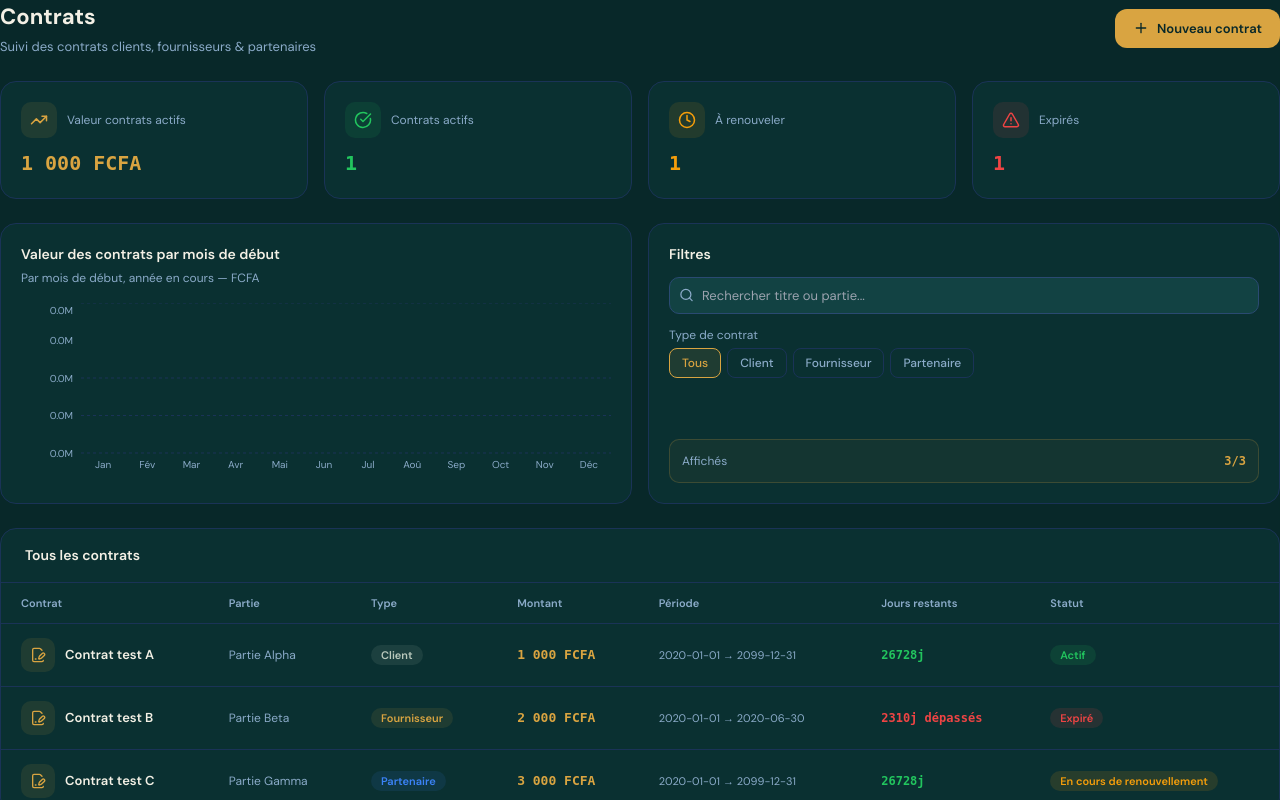
Test case: ContratsPage › avec des contrats saisis › filtre par type
Check: the text "Contrat test A" is shown, box top-left (65, 645), bottom-right (154, 665)
Click the button "Fournisseur".
click(838, 363)  # box top-left (792, 348), bottom-right (884, 378)
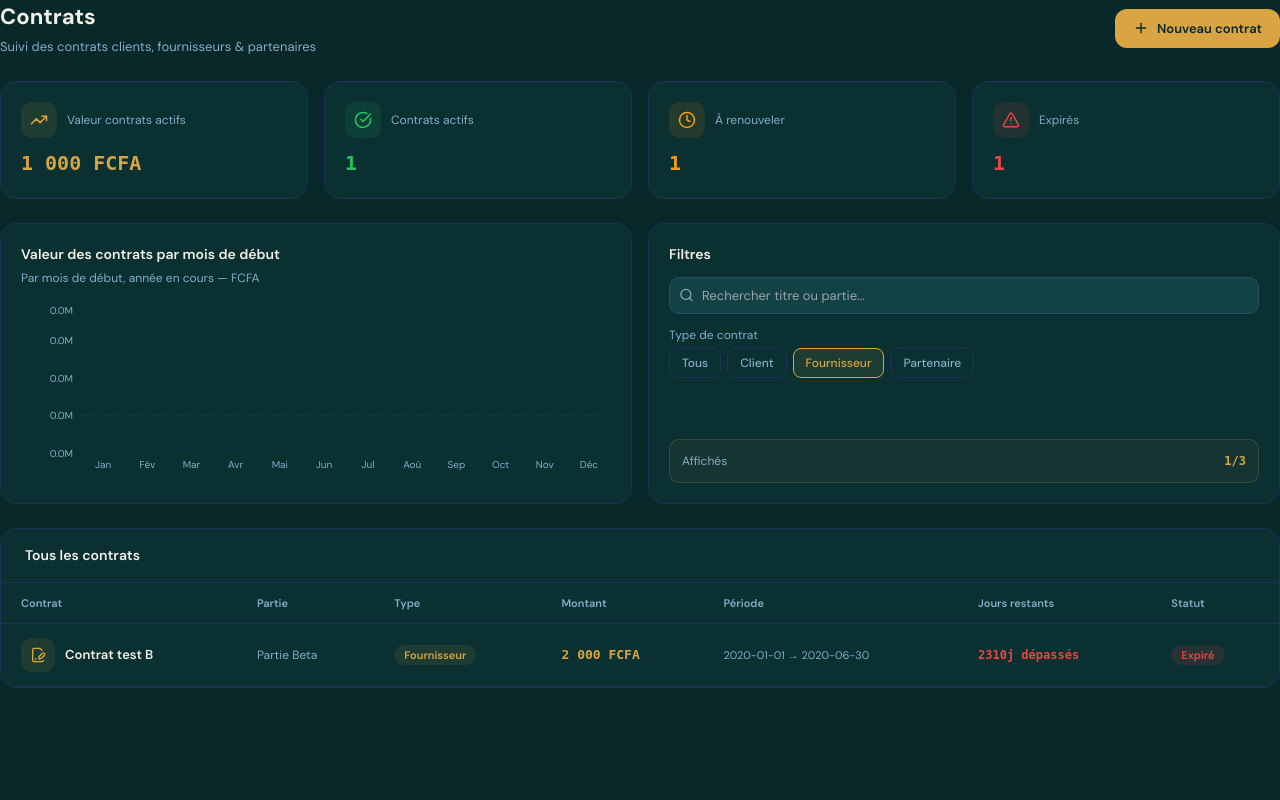
Check: the text "Contrat test B" is shown, box top-left (65, 645), bottom-right (153, 665)
Check: the text "Contrat test A" is gone
